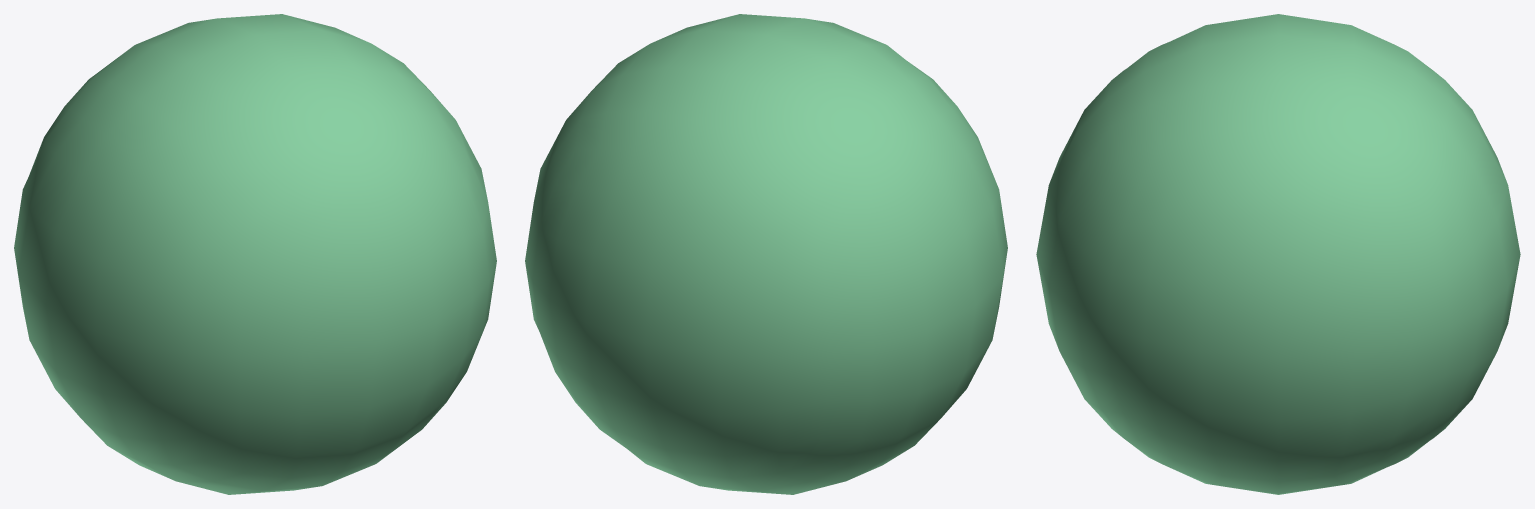
The model's file is Props_Ballon.fbx.
3 views of the same model, side by side, from view 1: azimuth 30°, elevation 25°; view 2: azimuth 150°, elevation 25°; view 3: azimuth 270°, elevation 25° (orthographic).
Visible parts, largest first — view 1: ballon; view 2: ballon; view 3: ballon.
Part boxes in pixels (x1,y1,x2,y2): ballon: (14, 14, 496, 494); ballon: (525, 14, 1007, 494); ballon: (1036, 14, 1520, 494).
Bounding box in the file's own units: 15 × 15 × 15.
